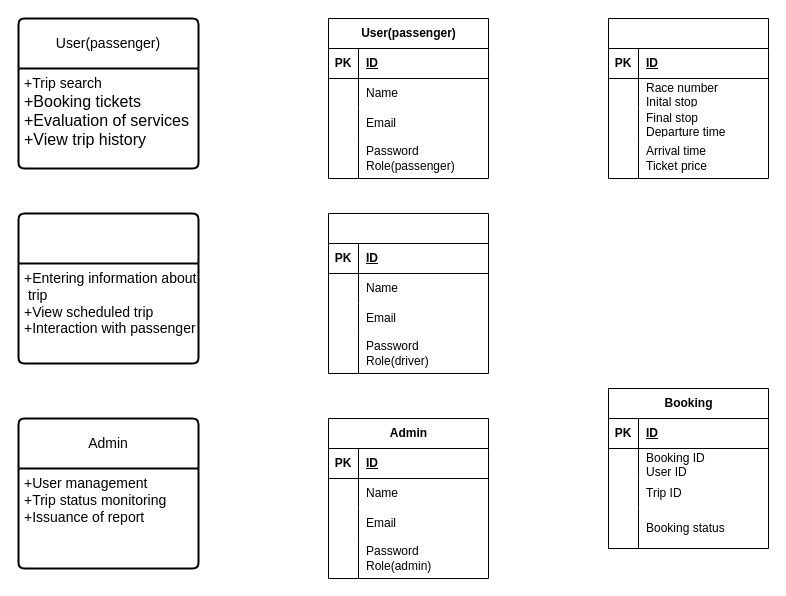
This 786x596 diagram has some shape labels left out. The shapes that lost their labels are listed below. From the top down, each one's box as (x1, y1, x2, y2) in pixels, then its label:
(608, 18, 768, 178): Trip
(17, 212, 199, 364): Driver
(328, 212, 488, 374): User(Driver)
